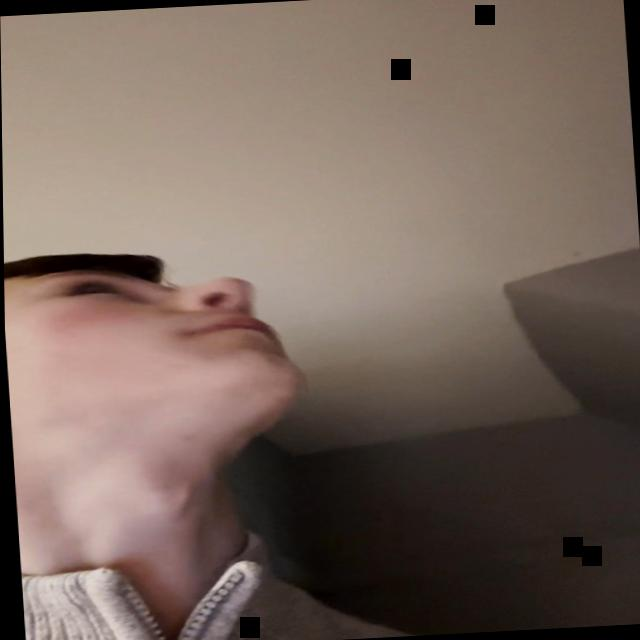NO-Mask: (3, 253, 308, 442)
